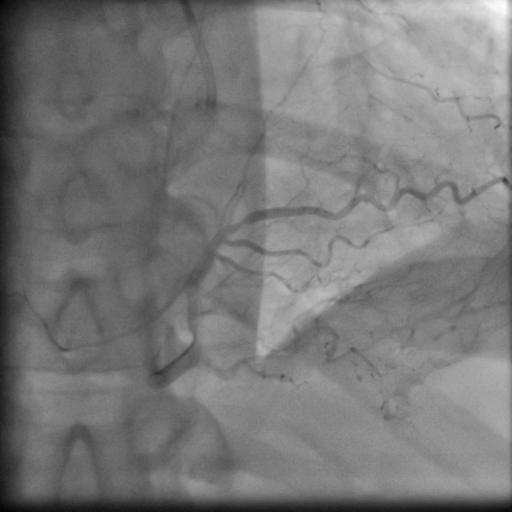Stenosis: (226, 213, 256, 235)
